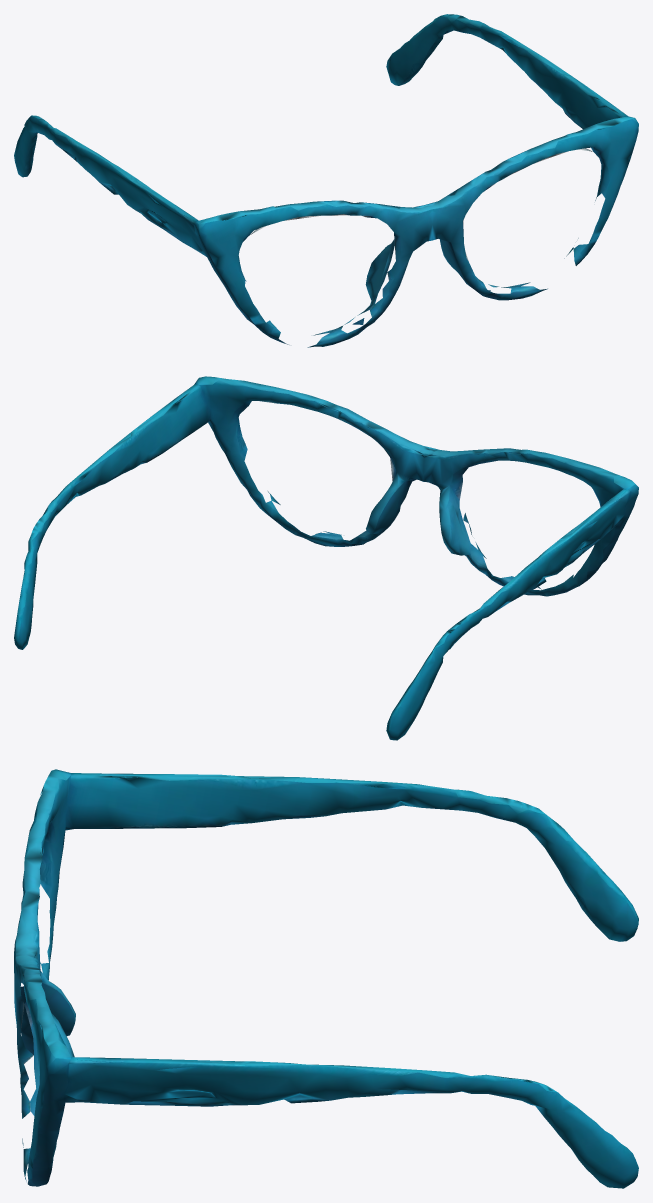
File: head_accessory__0_025-.glb
The picture shows the model from 3 angles, top to bottom: view 1: azimuth 30°, elevation 25°; view 2: azimuth 150°, elevation 25°; view 3: azimuth 270°, elevation 25°; orthographic projection. The views are drawn at different scales.
Parts seen in each view (by area): view 1: geometry_0_025; view 2: geometry_0_025; view 3: geometry_0_025.
Boxes of the visible parts, x1,y1,x2,y2 form: geometry_0_025: (14,14,638,347); geometry_0_025: (14,376,638,740); geometry_0_025: (14,769,638,1188).
Size of the model in its own units: 0.7939 by 0.2522 by 0.7204.
Materials: 1 (1 with a texture image).
